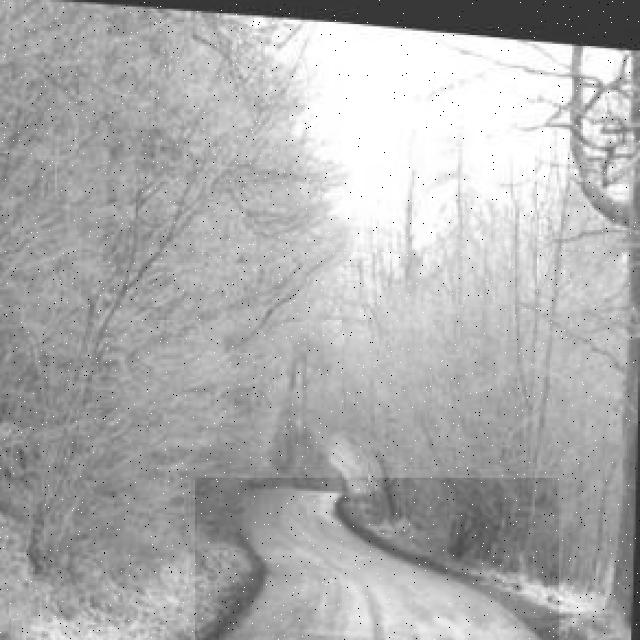ice-road: (202, 479, 553, 640)
